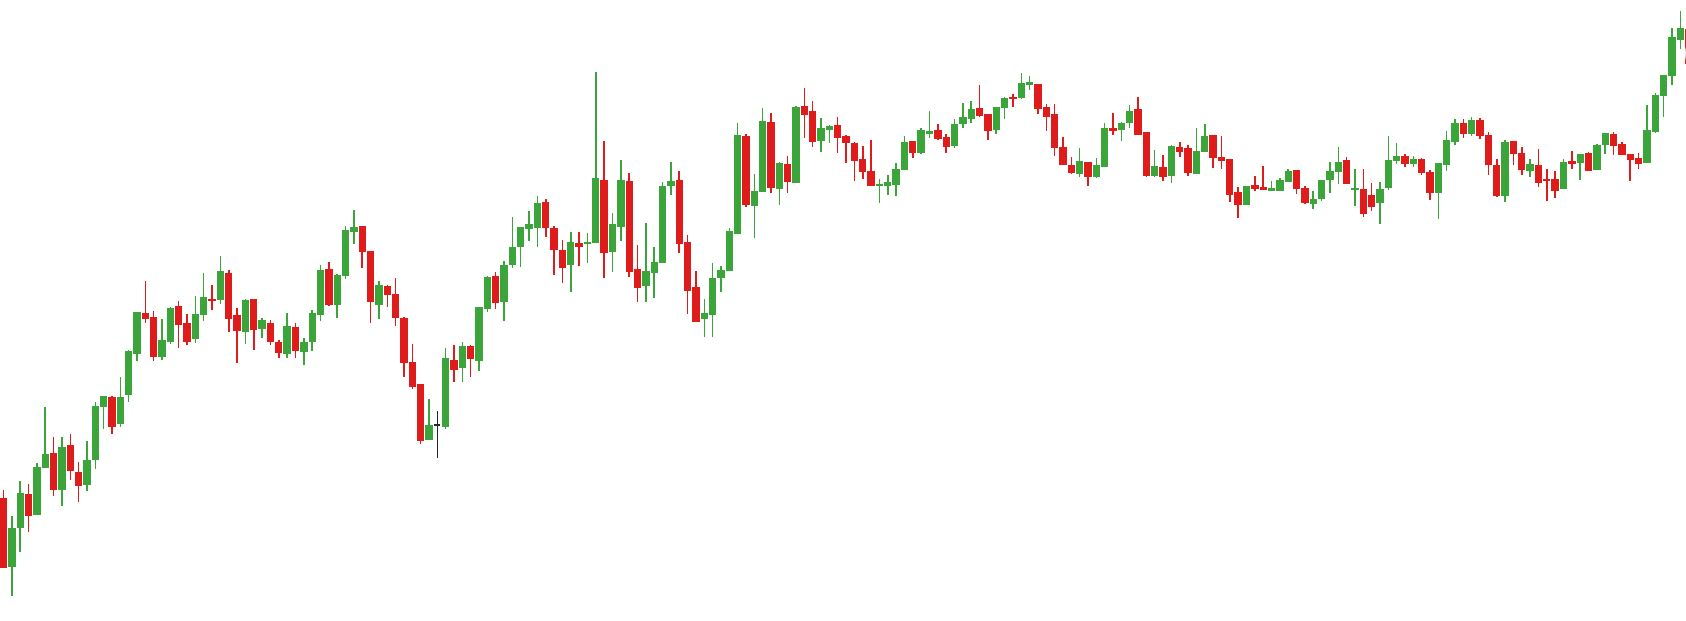buy: (633, 223, 717, 349), (1301, 163, 1384, 233)
